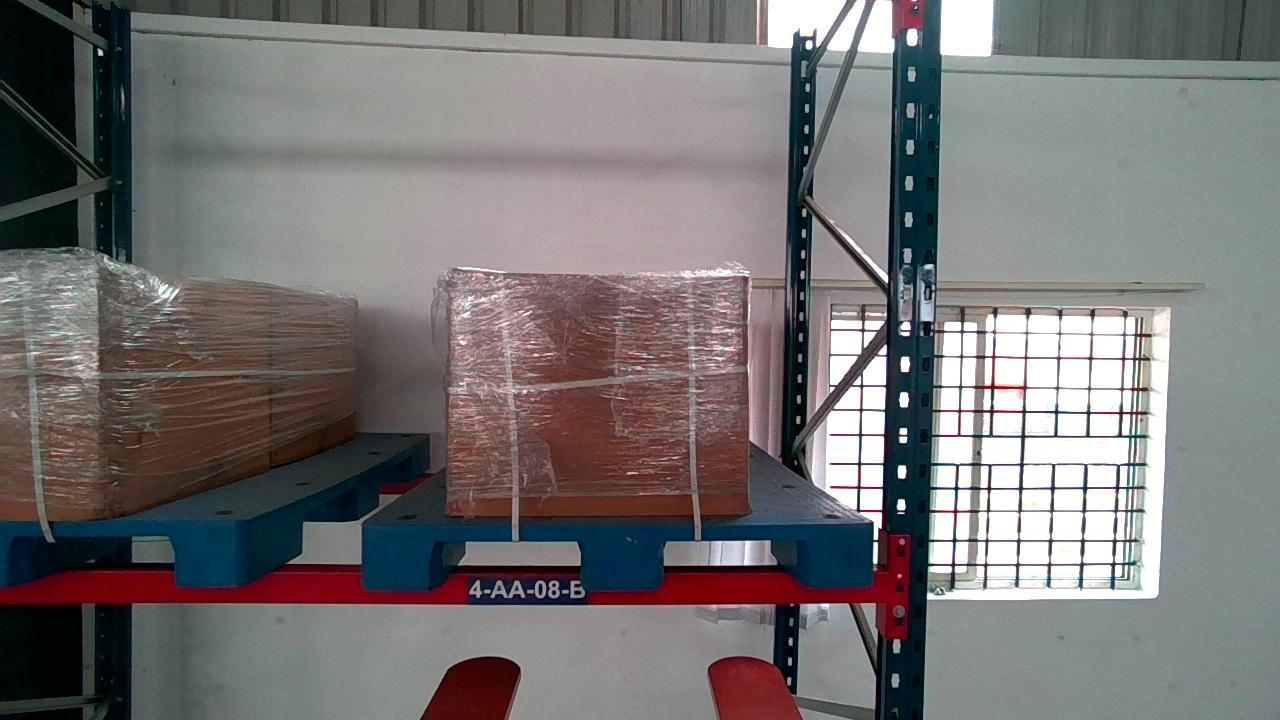h_rack: (0, 571, 900, 602)
small_pallet: (362, 521, 872, 589), (1, 520, 240, 588)
